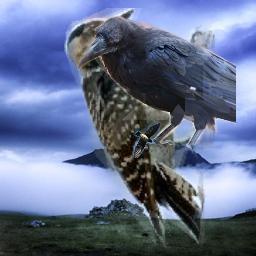Crow: (77, 13, 236, 145)
Swallow: (133, 122, 160, 158)
Woodpecker: (63, 8, 215, 248)
